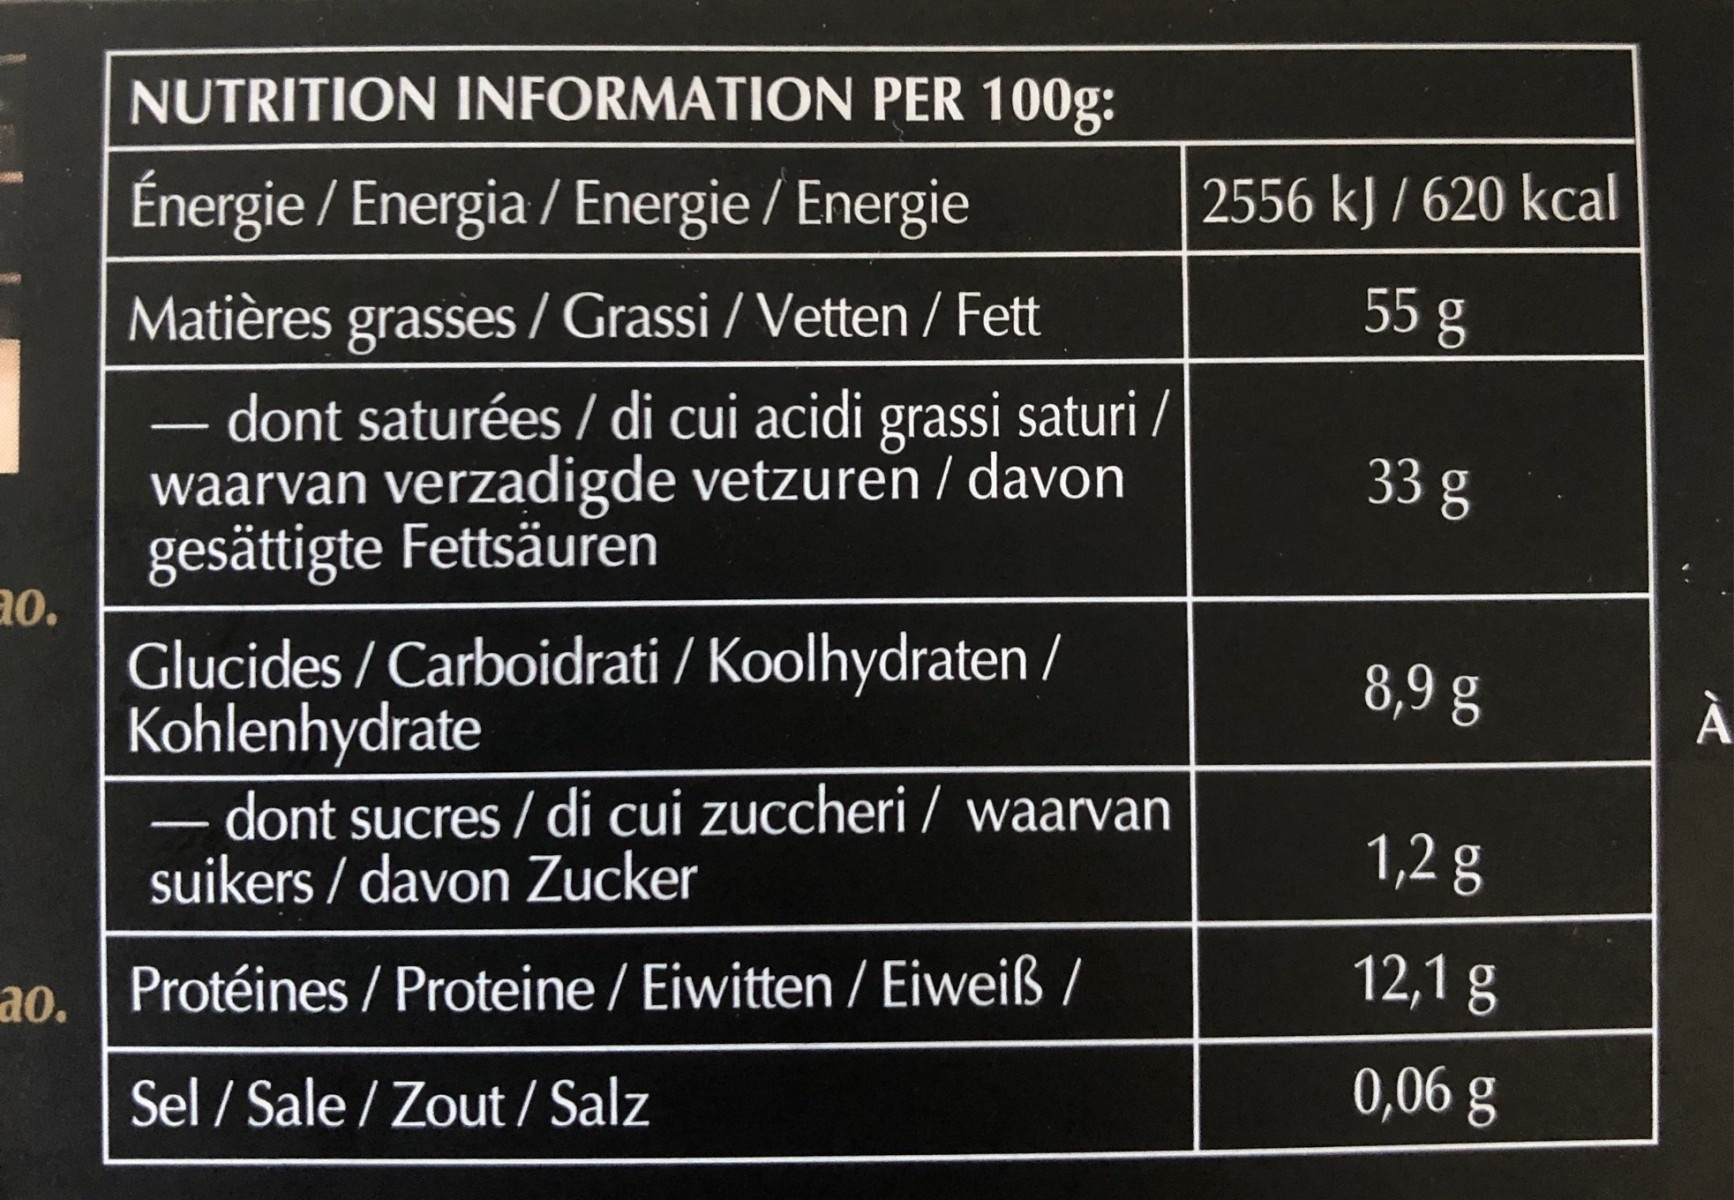table: (98, 43, 1648, 1157)
